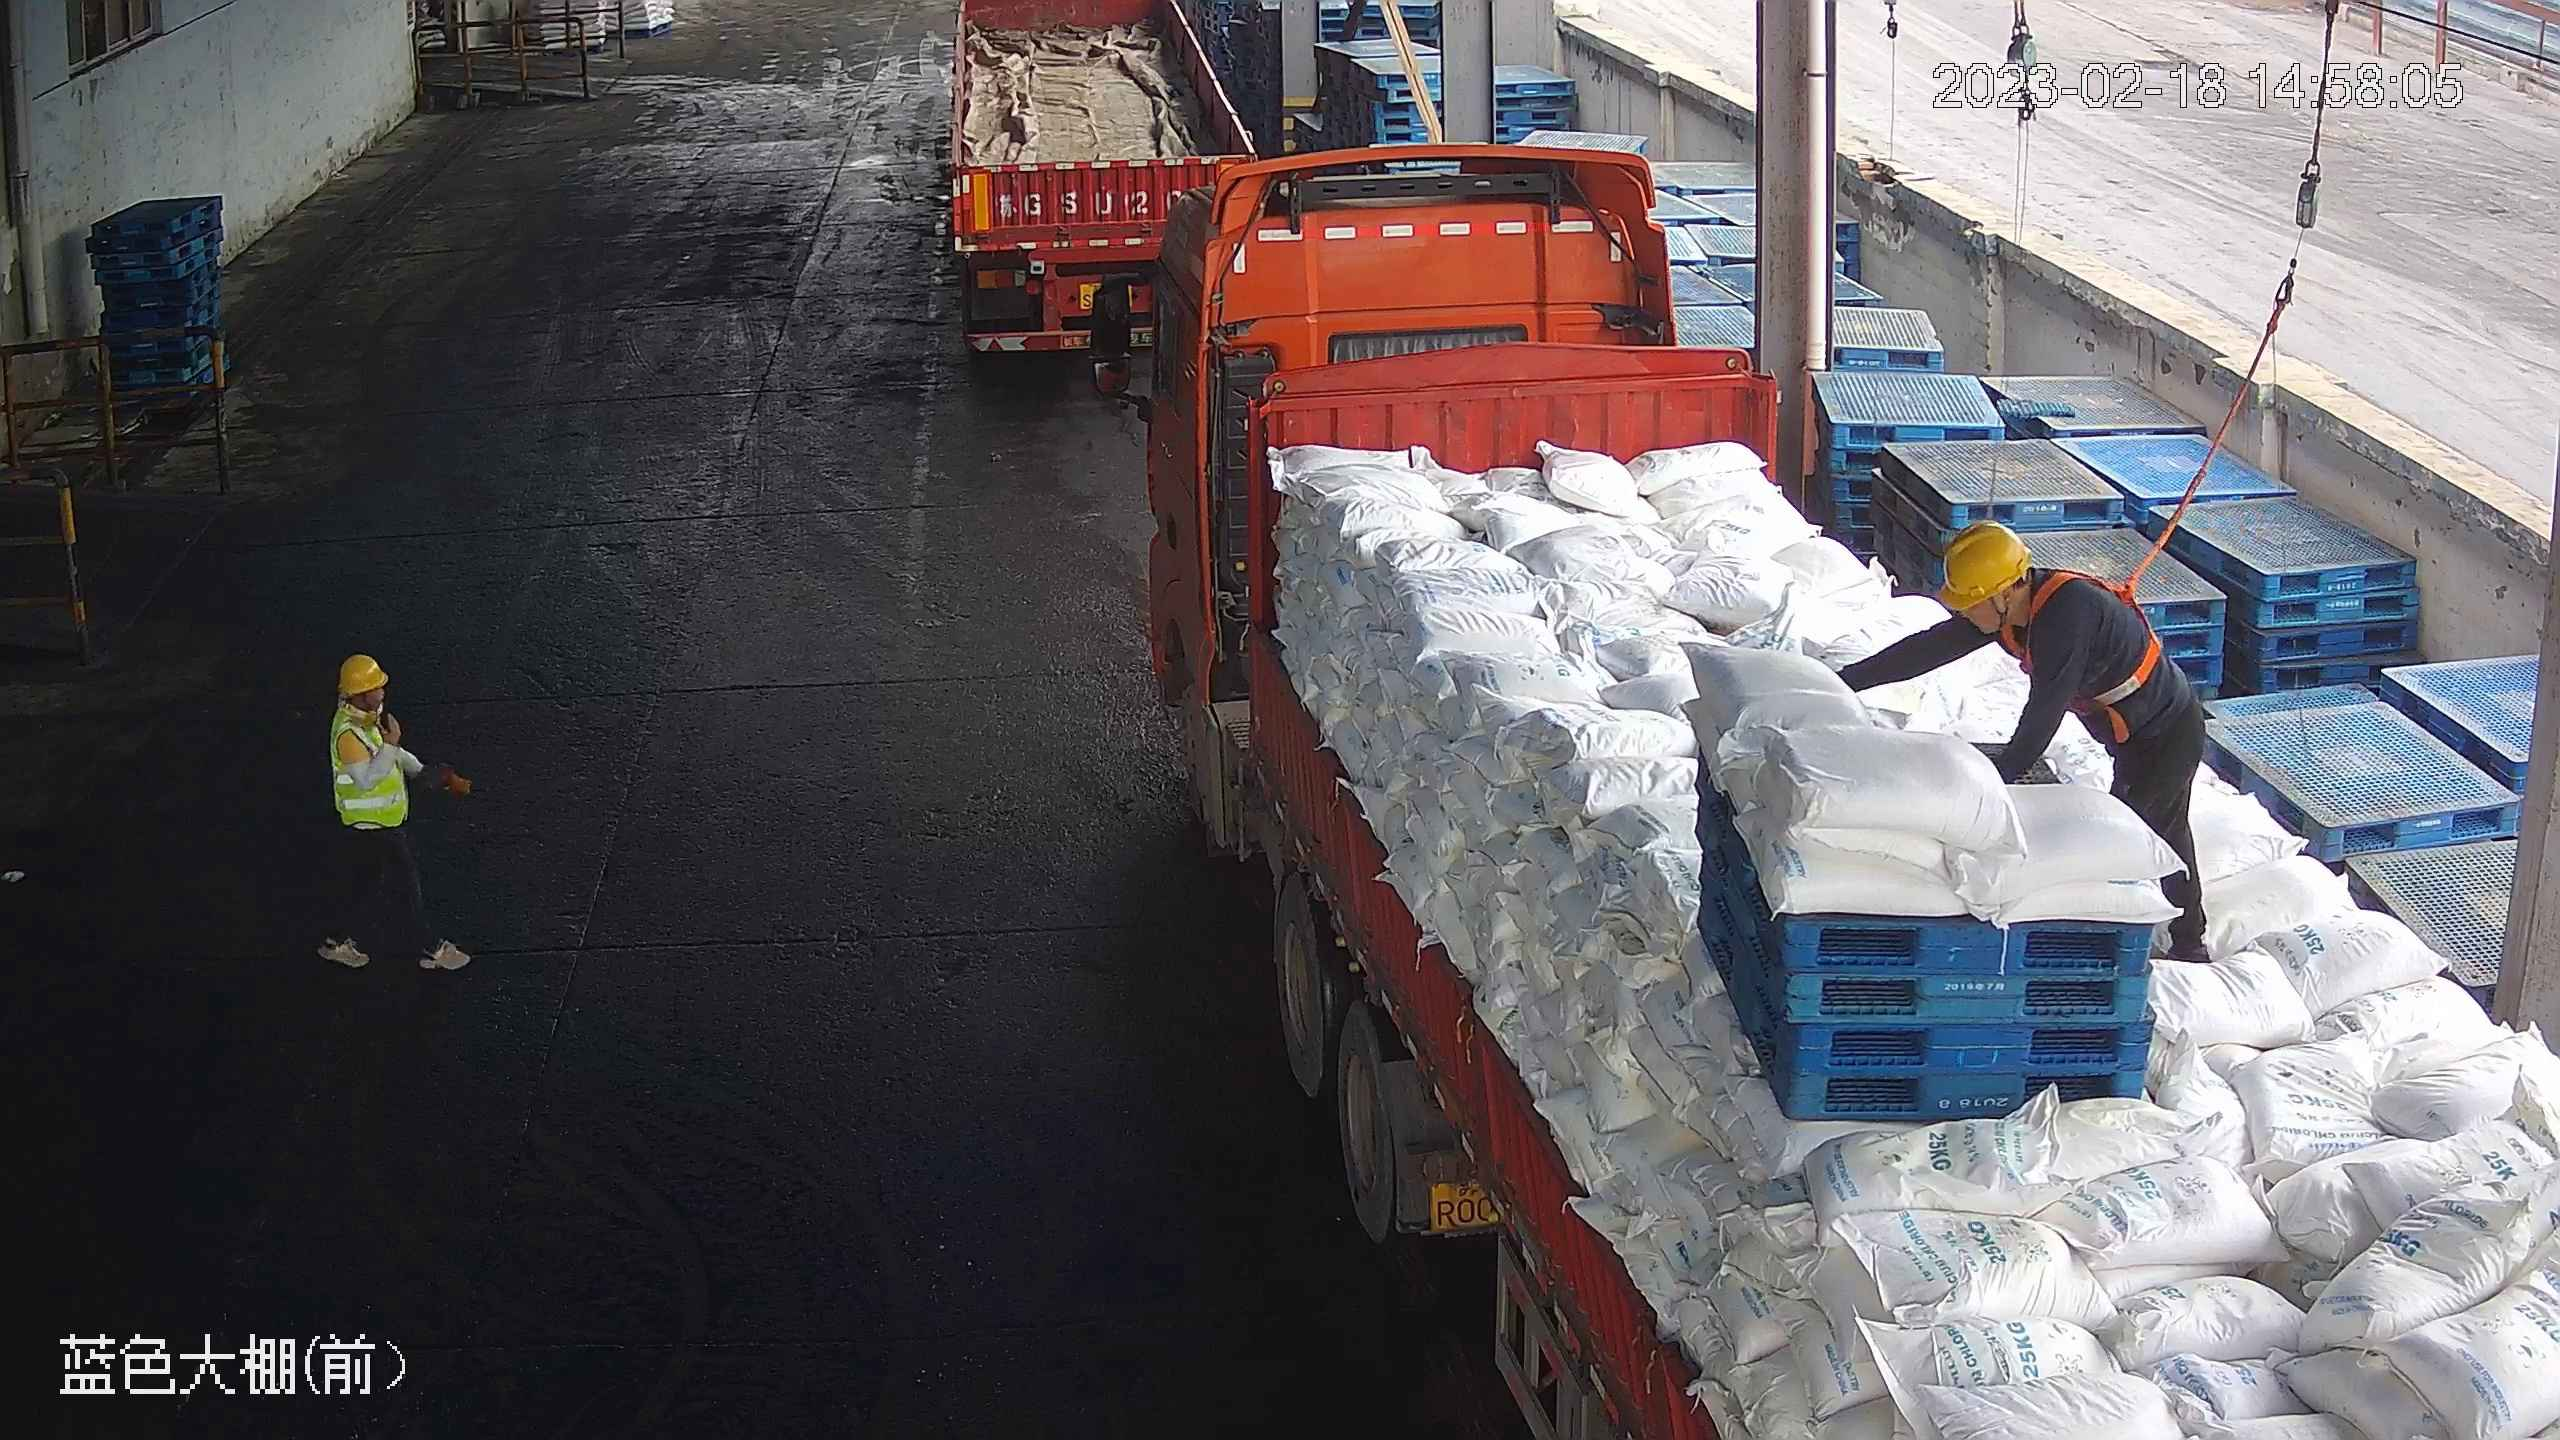belt: (2024, 565, 2177, 711), (334, 705, 403, 771)
head: (1936, 518, 2118, 663), (324, 654, 413, 757)
helmet: (1937, 519, 2032, 611), (337, 653, 386, 691)
people: (1840, 517, 2224, 965), (309, 650, 474, 981)
truck: (1145, 148, 2557, 1440), (924, 1, 1262, 361)
